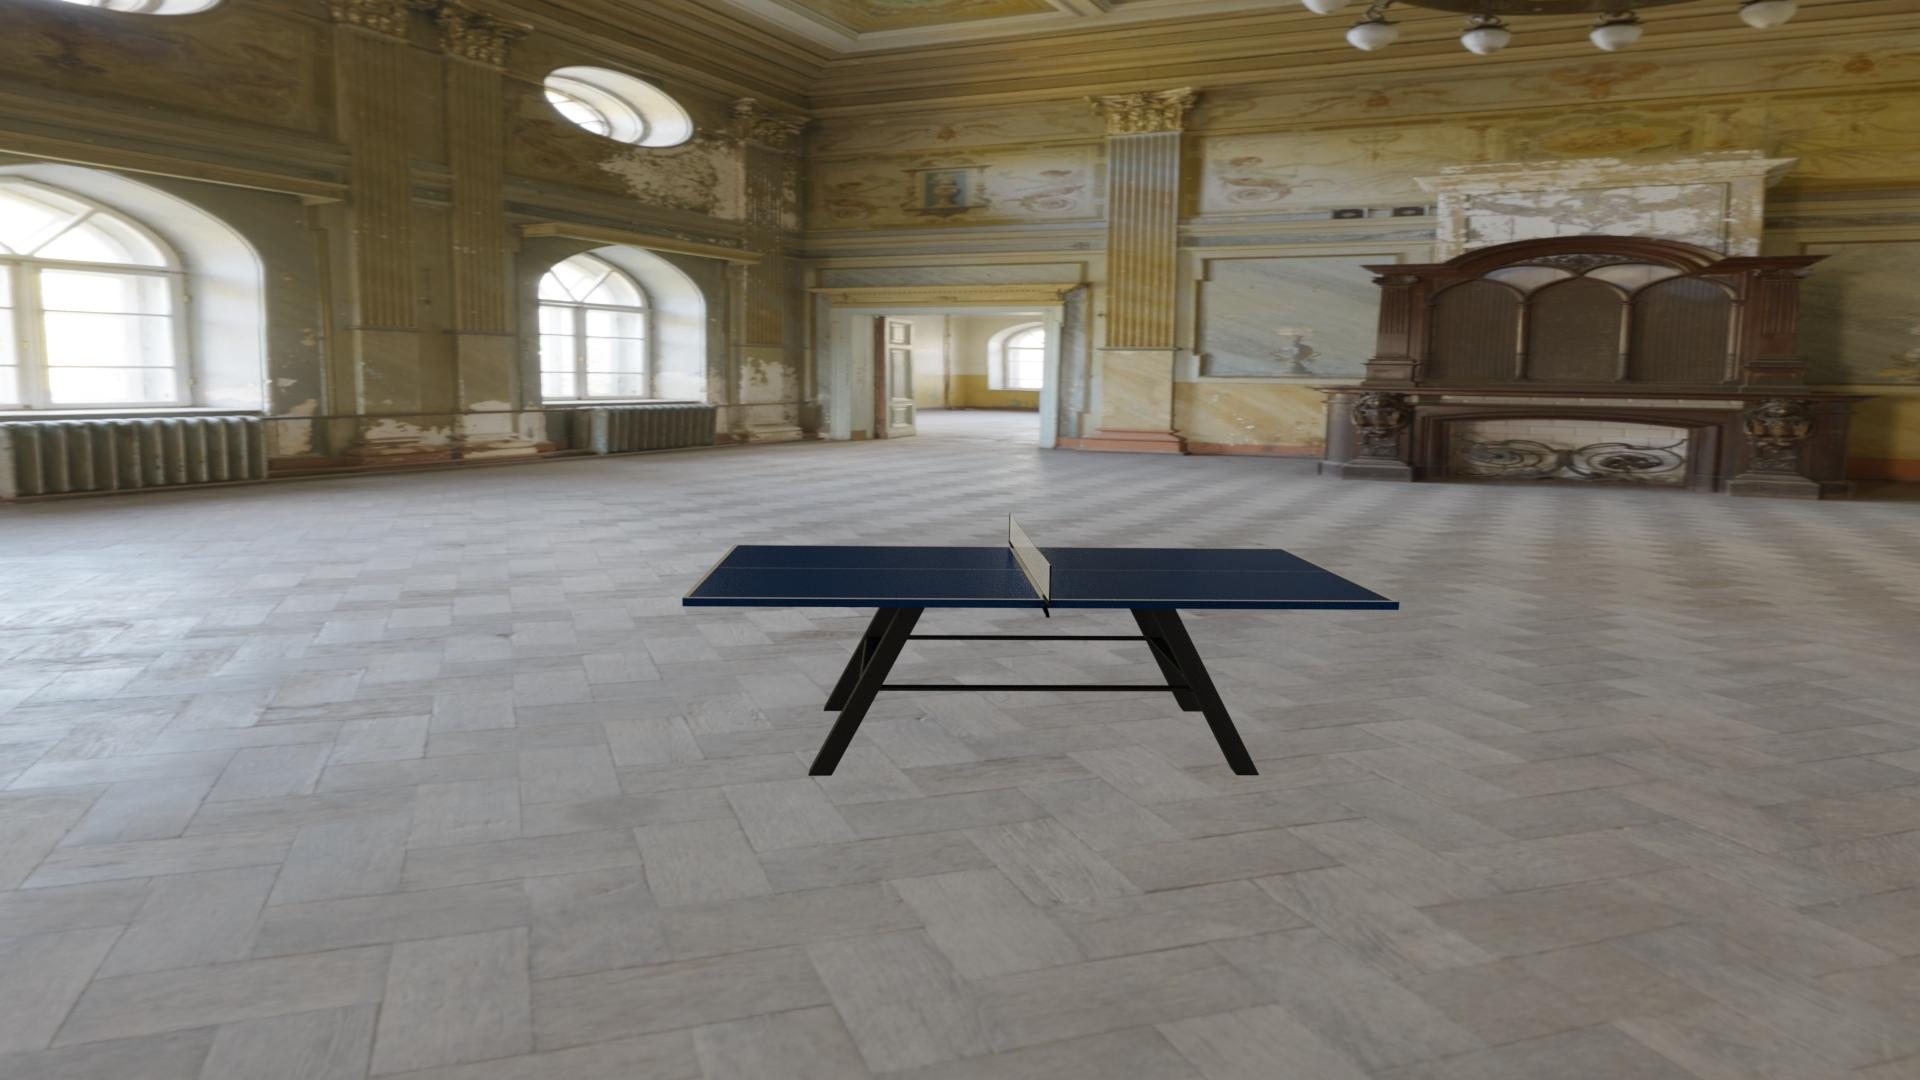table: (688, 545, 1393, 601)
